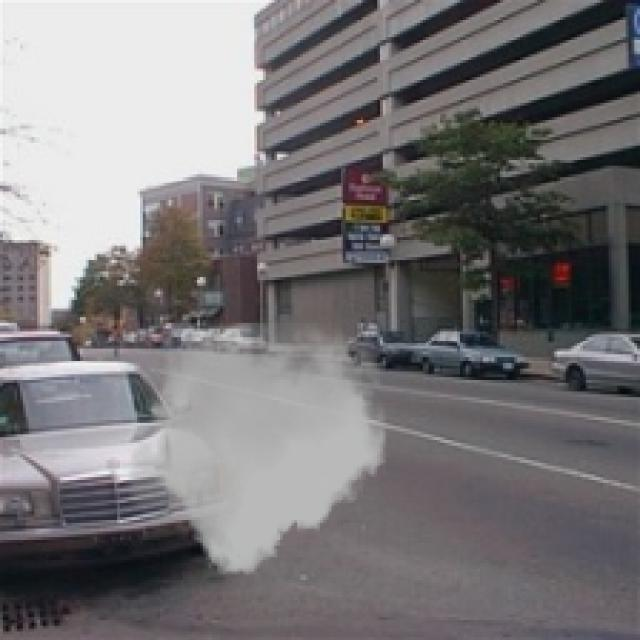Smoke: (120, 323, 392, 574)
